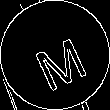M_NW: (24, 22, 86, 88)
